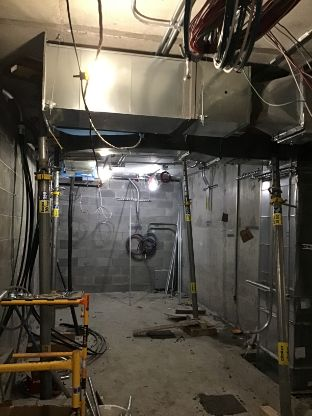Duct: (18, 34, 308, 149), (249, 155, 312, 396)
